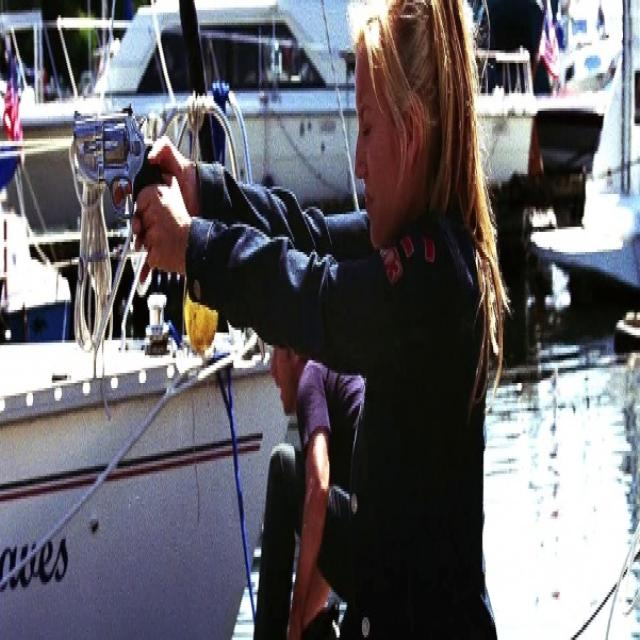weapons: (60, 74, 182, 266)
